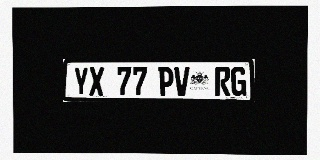7: (116, 67, 131, 96), (132, 67, 147, 96)
G: (231, 67, 246, 96)
P: (158, 67, 174, 96)
R: (215, 67, 230, 96)
V: (174, 67, 189, 96)
X: (89, 67, 104, 96)
Y: (73, 67, 89, 96)
